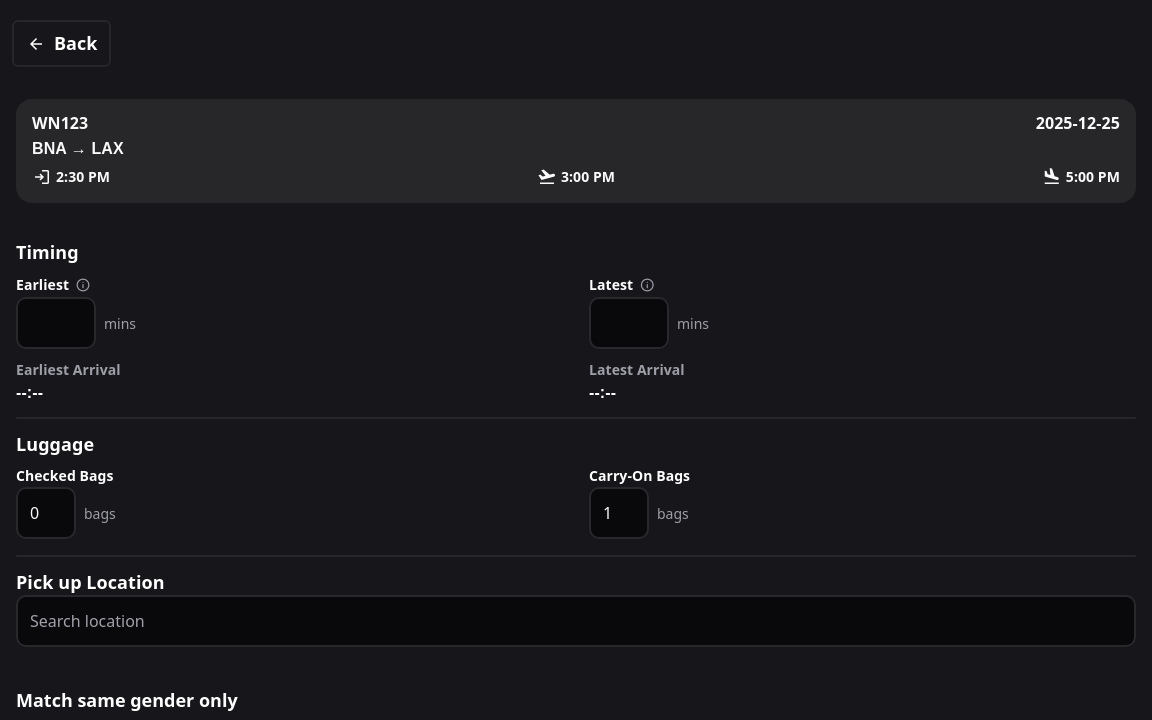
RidePreferencesScreen › Form Validation › enables search button when all fields are filled
Type "120" into the 1st field. click: (56, 323)
box: [16,297,96,349]
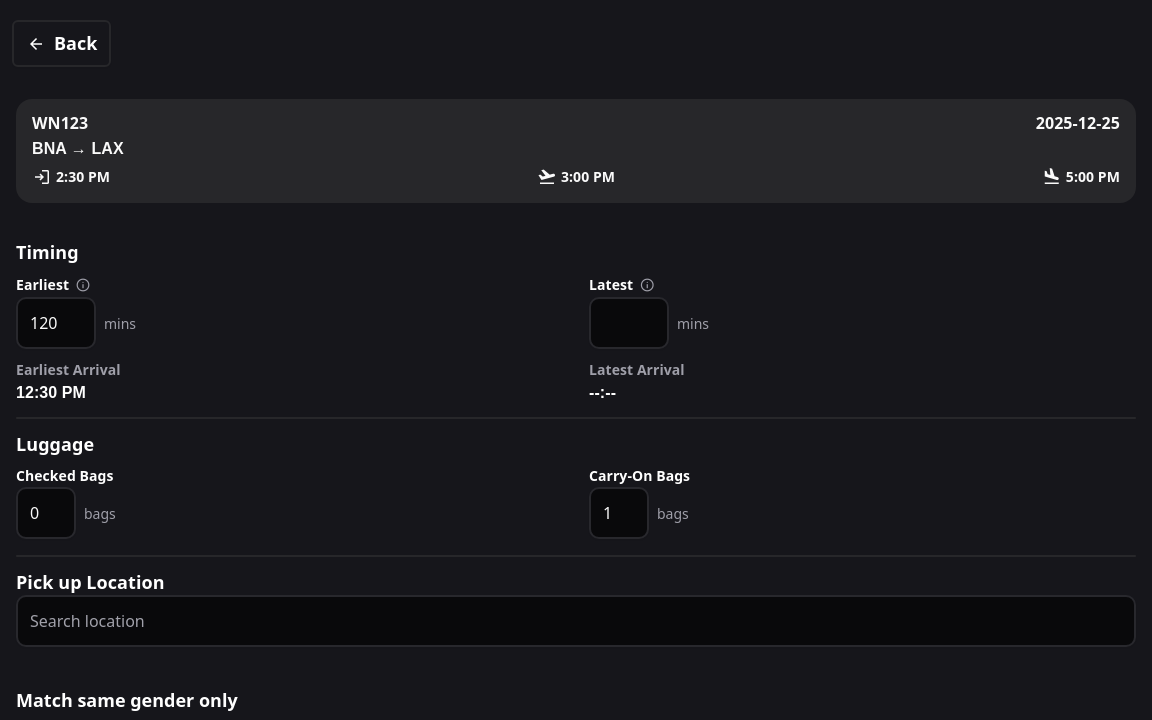
Type "60" into the 2nd field. click: (629, 323)
box: [589,297,669,349]
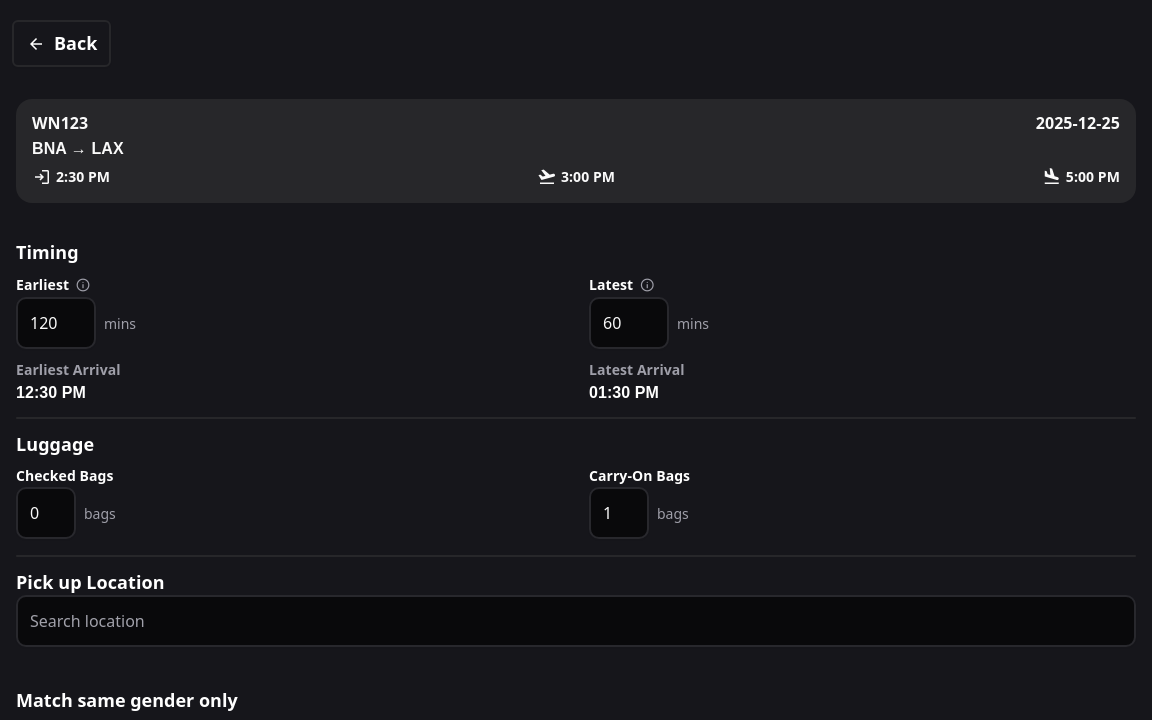
// Set location
Type "Kirk" into the field with placeholder "Search location". click: (576, 621)
box: [16,595,1136,647]
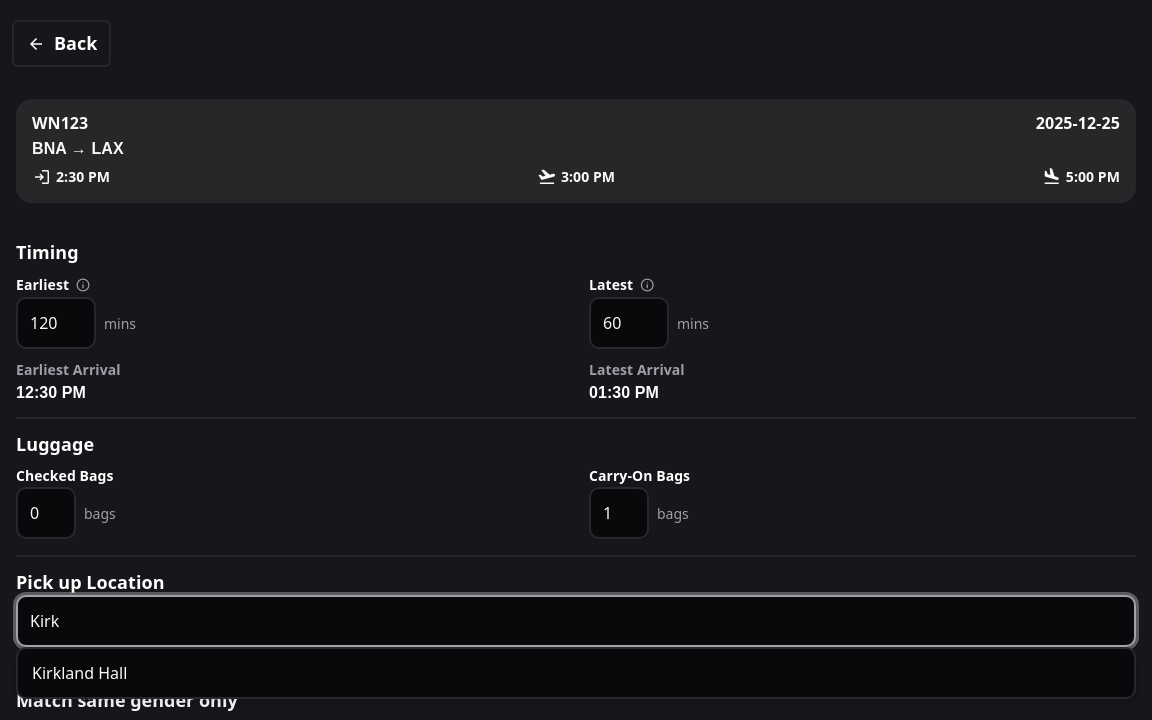
Press the mouse on the button "Kirkland Hall" at (80, 673), box [18,649,1134,697]
(page scrolled)
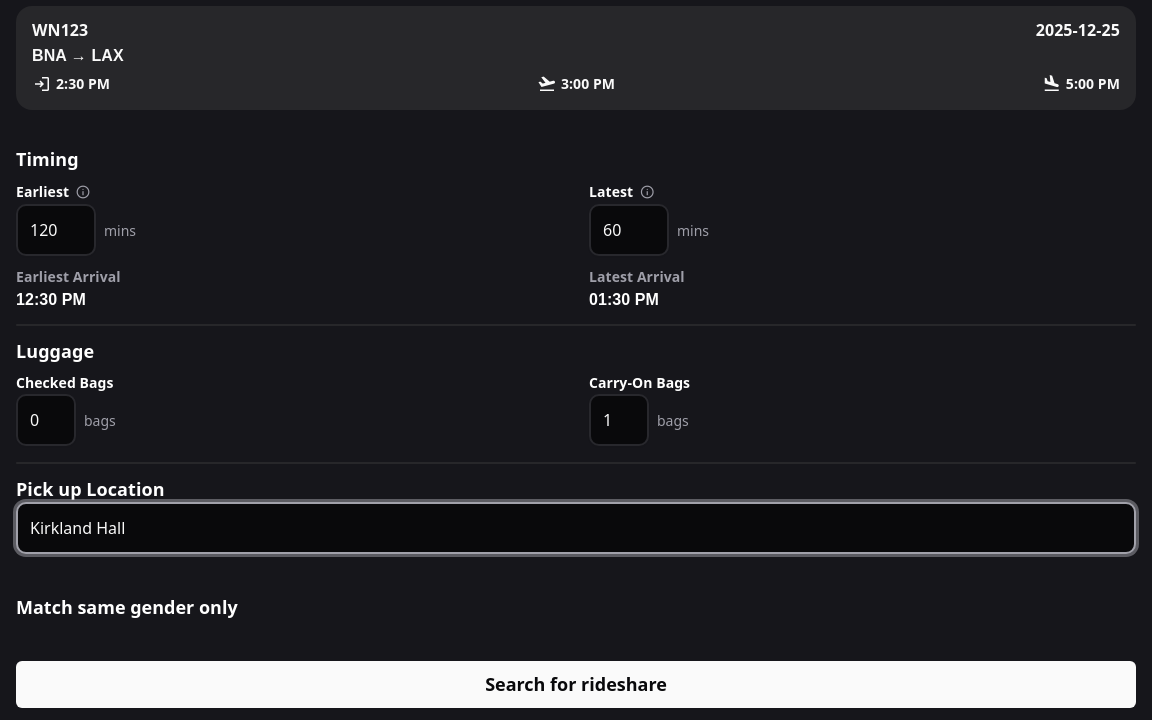
Check: the button "Search for rideshare" is enabled, box [16,661,1136,708]
